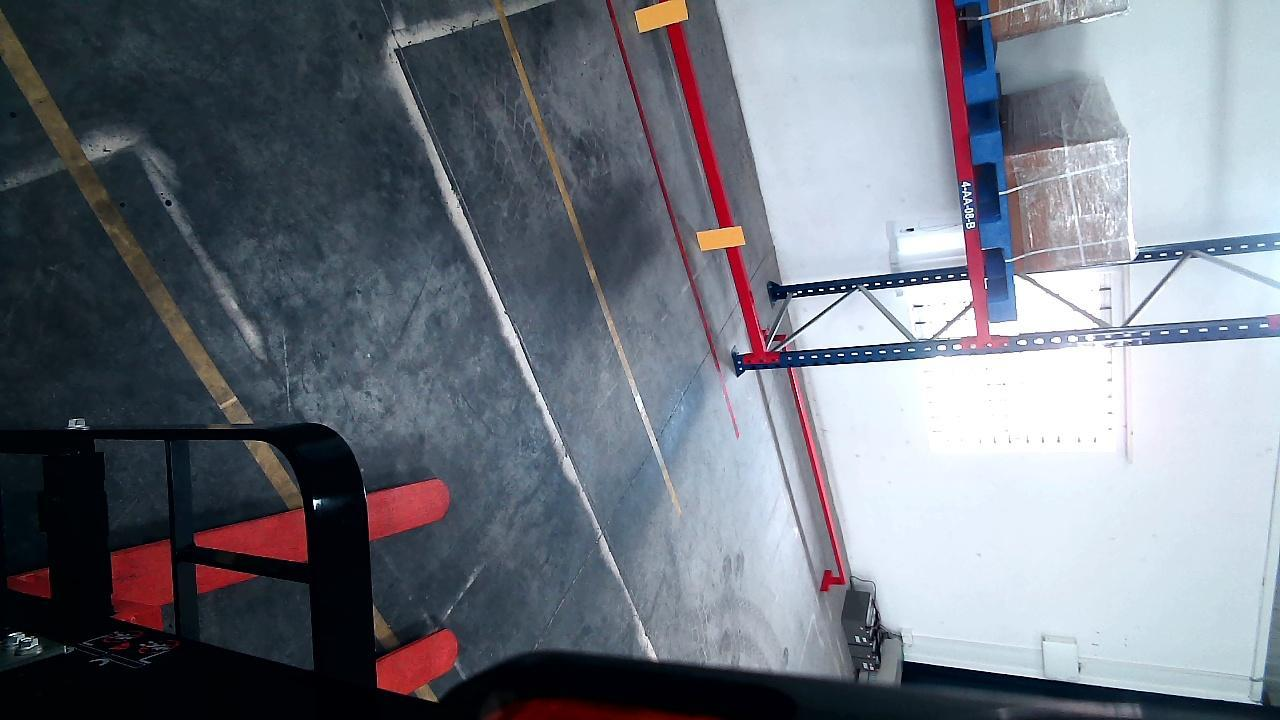red_line: (604, 1, 741, 437)
yellow_line: (0, 8, 397, 653), (492, 1, 681, 511)
